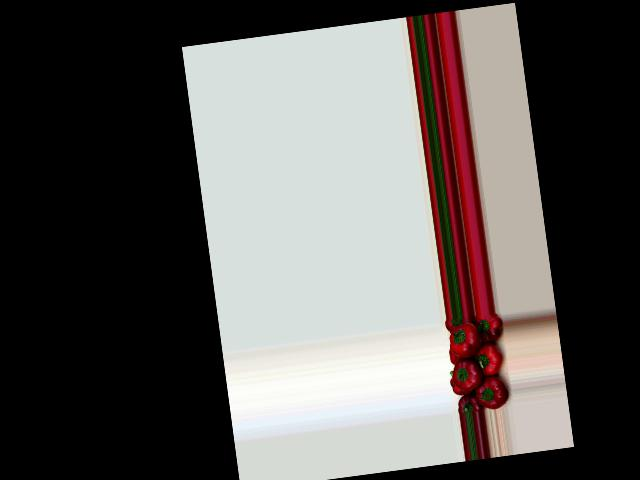bell_pepper: (447, 350, 462, 365)
